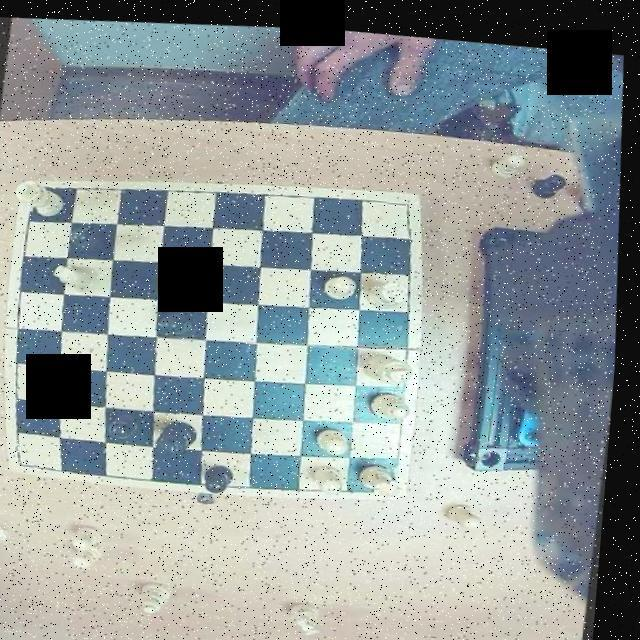chess-table-corners: (380, 456, 417, 493), (386, 186, 422, 222), (24, 178, 60, 212), (18, 442, 49, 470)
